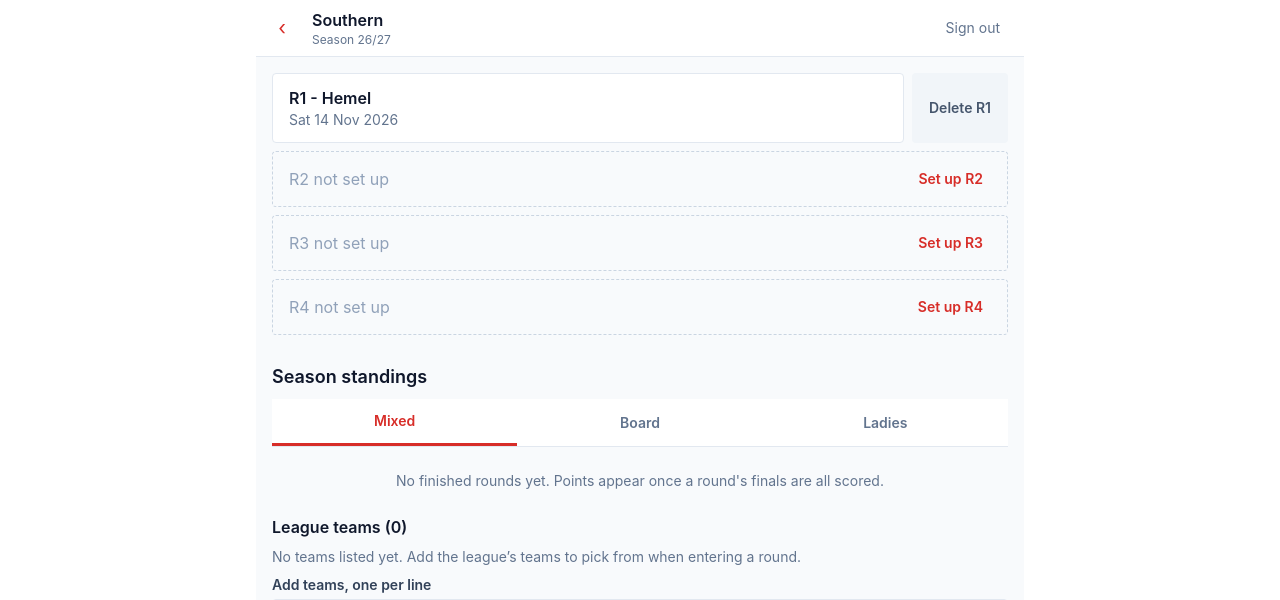
Test case: LeaguePage › shows an error when a round cannot be deleted
Click the button "Delete R1": (960, 108) [912, 73, 1008, 143]
Wait 500 ms
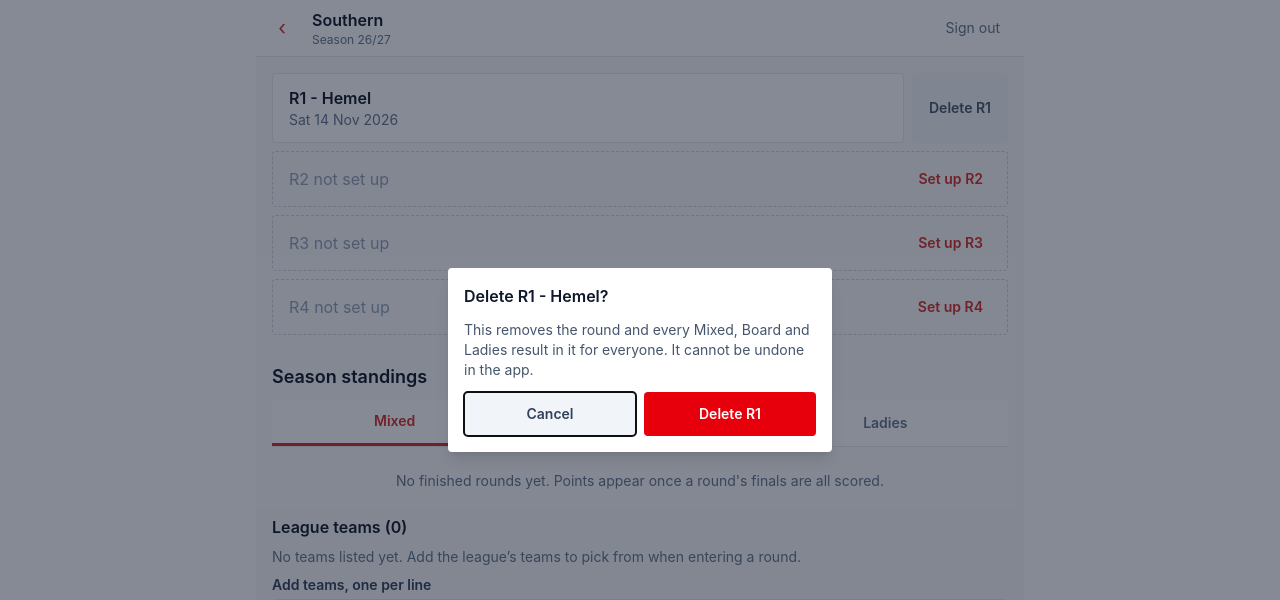
Click the button "Delete R1" below "Delete R1 - Hemel?": (730, 414) [644, 392, 816, 436]
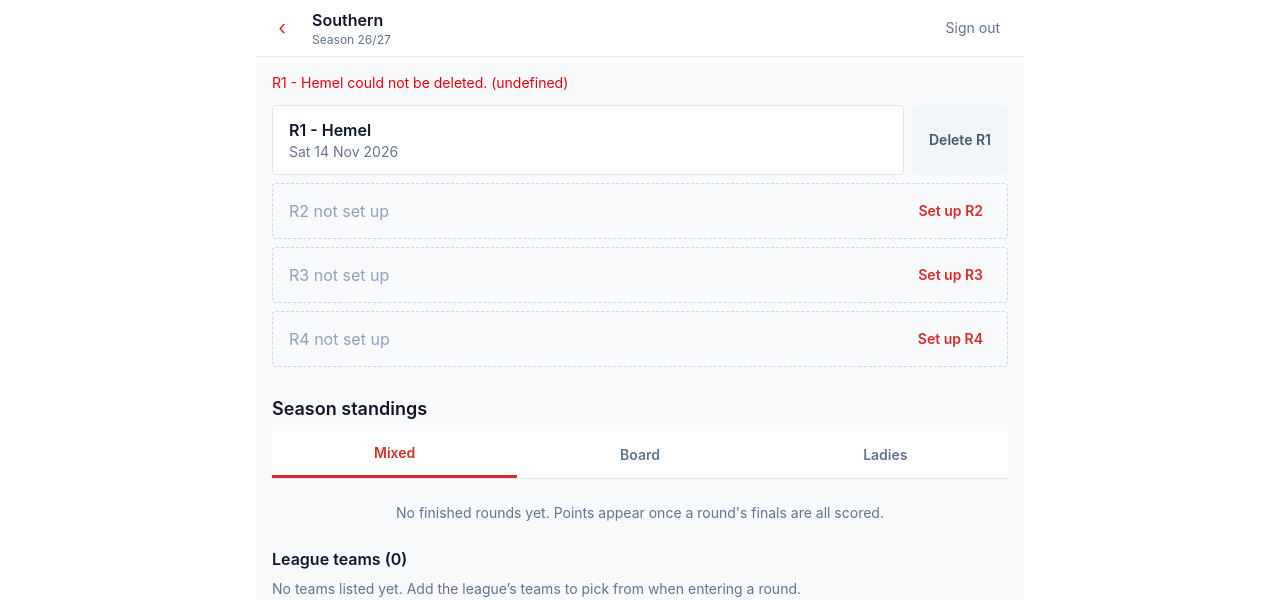
Now the message shows "R1 - Hemel could not be deleted", box [272, 74, 568, 91]
